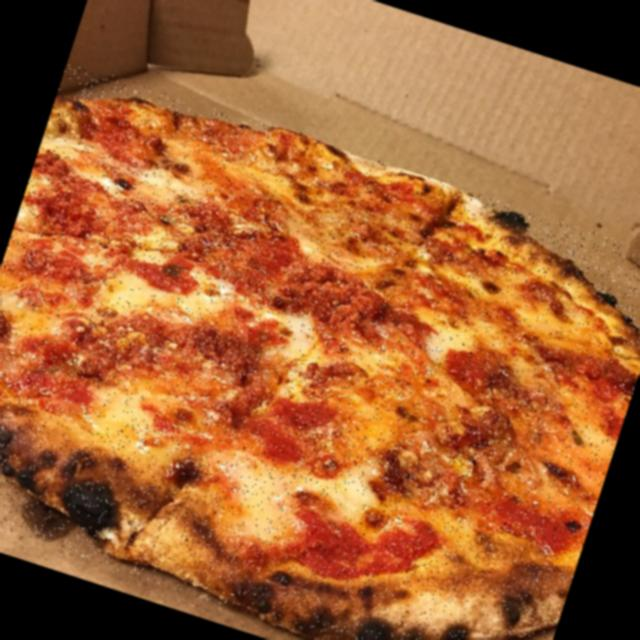Pizza: (0, 61, 640, 640)
